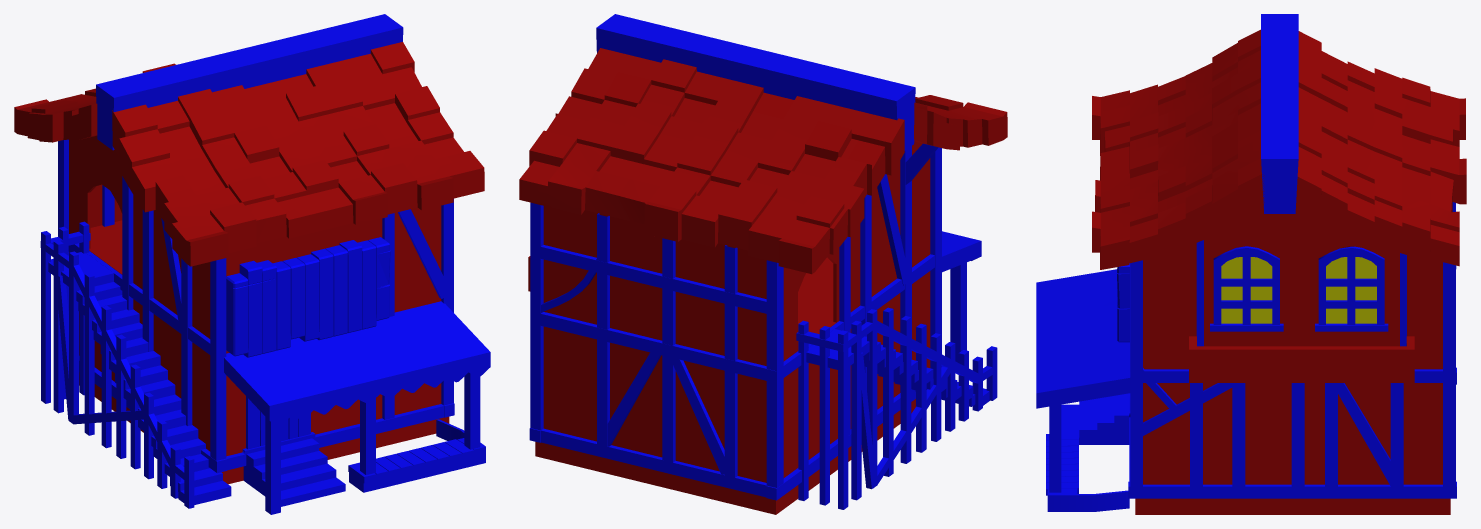
Rendered from shop(5).fbx.
The picture shows the model from 3 angles, left to right: view 1: azimuth 30°, elevation 25°; view 2: azimuth 150°, elevation 25°; view 3: azimuth 270°, elevation 25°; orthographic projection. The views are drawn at different scales.
Parts seen in each view (by area): view 1: 对象081, 对象078, 对象070, 对象042, 对象029, 对象035; view 2: 对象078, 对象081, 对象042, 对象035; view 3: 对象078, 对象081, 对象060, 对象048, 对象042, 对象070.
Boxes of the visible parts, box(x1,y1,x2,y2) form: 对象081: box(40, 14, 490, 514); 对象078: box(14, 42, 484, 456); 对象070: box(226, 237, 390, 357); 对象042: box(79, 372, 449, 484); 对象029: box(242, 396, 315, 454); 对象035: box(89, 220, 437, 306); 对象078: box(519, 48, 1007, 482); 对象081: box(529, 14, 997, 509); 对象042: box(535, 399, 915, 514); 对象035: box(786, 257, 857, 359); 对象078: box(1092, 29, 1466, 484); 对象081: box(1036, 14, 1456, 511); 对象060: box(1210, 246, 1283, 331); 对象048: box(1315, 246, 1388, 331); 对象042: box(1135, 498, 1450, 514); 对象070: box(1117, 263, 1129, 342).
Size of the model in its own units: 582 by 649 by 695.
